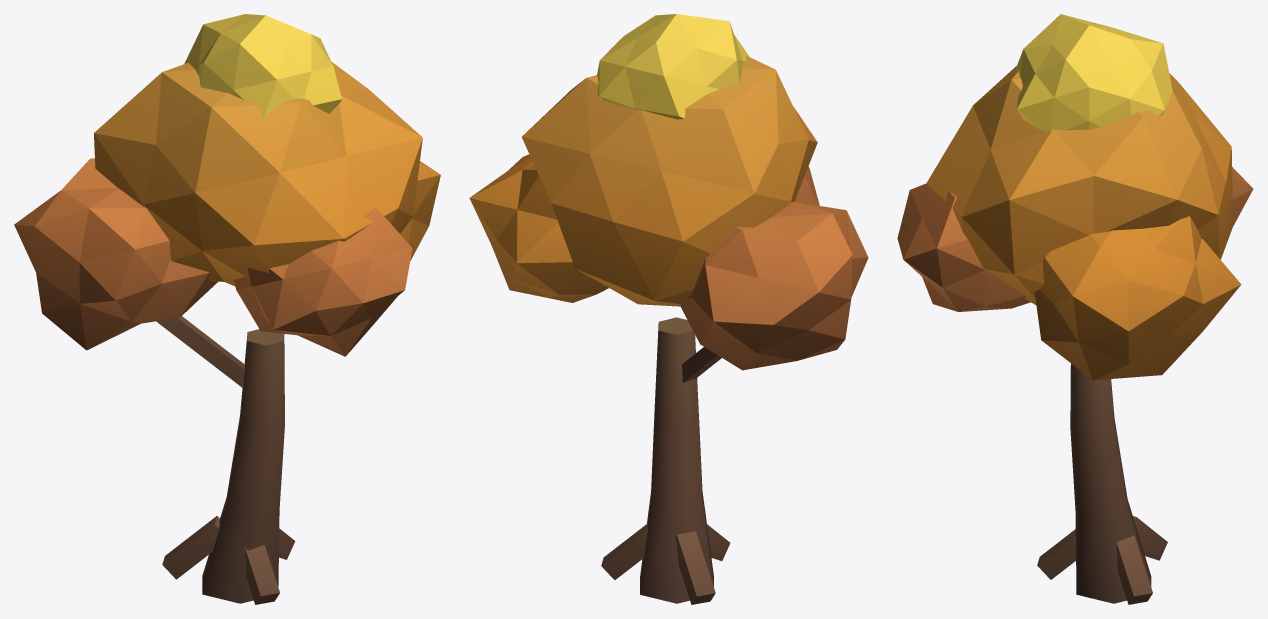
File: tree_autumn.glb
3 renders of one model, left to right at view 1: azimuth 30°, elevation 25°; view 2: azimuth 150°, elevation 25°; view 3: azimuth 270°, elevation 25°, orthographic. The views are drawn at different scales.
Visible parts, largest first — view 1: tree_autumn; view 2: tree_autumn; view 3: tree_autumn.
Part boxes in pixels (x1=…): tree_autumn: x1=14, y1=14, x2=440, y2=604; tree_autumn: x1=469, y1=14, x2=868, y2=604; tree_autumn: x1=897, y1=14, x2=1253, y2=604.
Bounding box in the file's own units: 17.99 × 25.32 × 14.43.
Materials: 1 (1 with a texture image).
